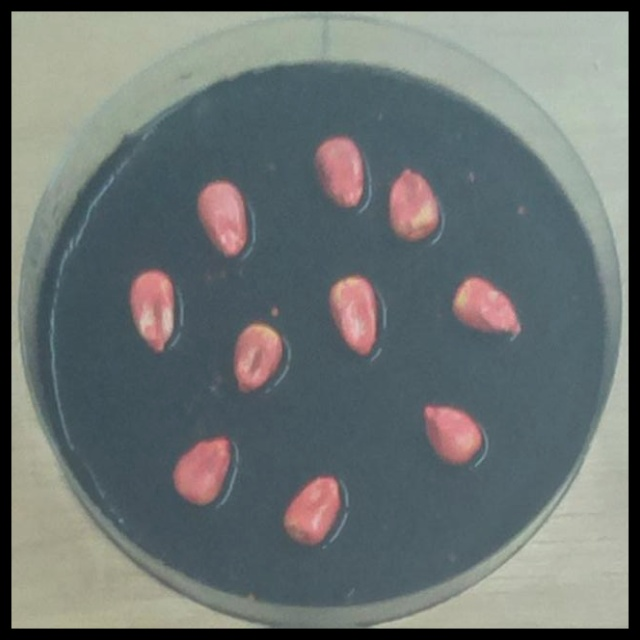Zea mays: (165, 428, 240, 512), (320, 268, 385, 364), (446, 270, 528, 345), (277, 469, 348, 554), (190, 175, 253, 267), (122, 265, 183, 359), (306, 130, 370, 217), (381, 162, 445, 249), (417, 398, 489, 474), (226, 318, 290, 401)
